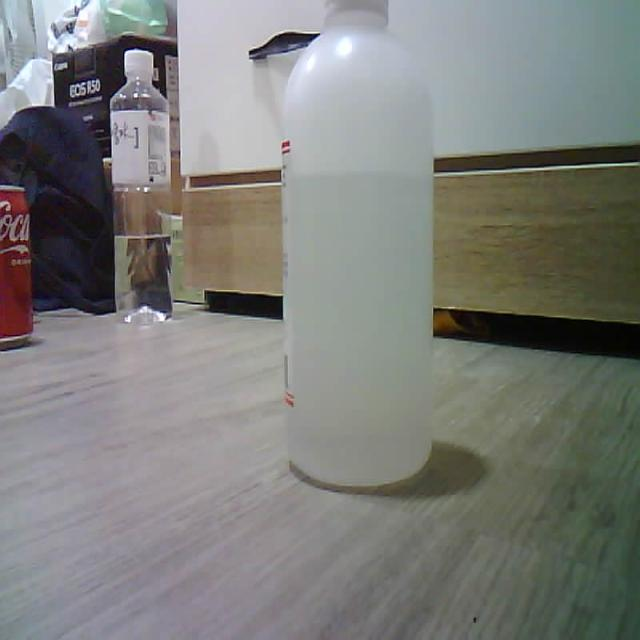bottle: (282, 0, 433, 487), (110, 47, 172, 323)
can: (0, 185, 32, 350)
